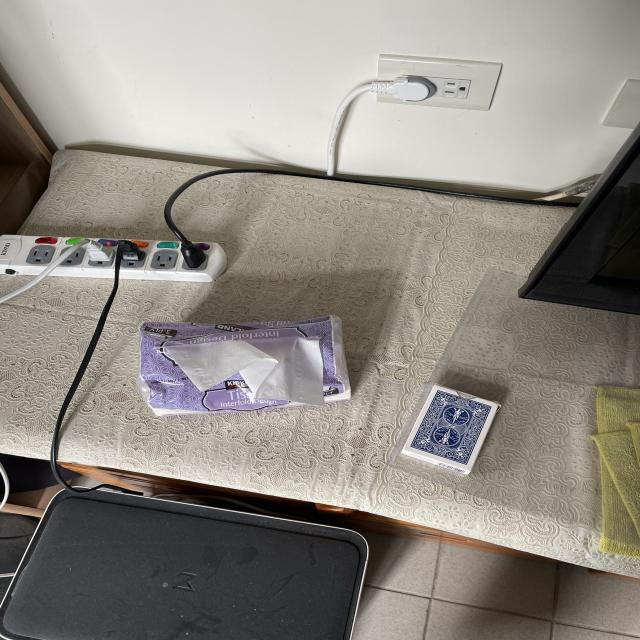tissue: (132, 312, 363, 419)
